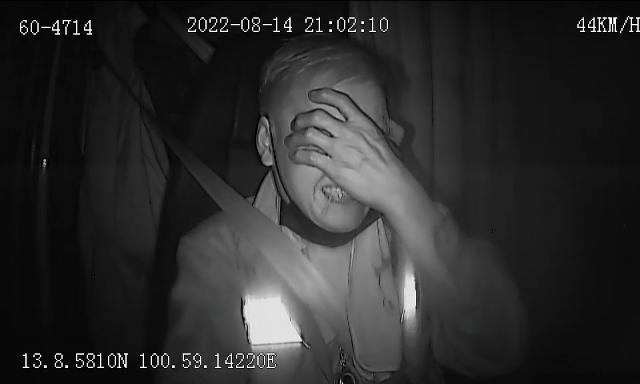Seatbelt: (172, 140, 358, 364)
